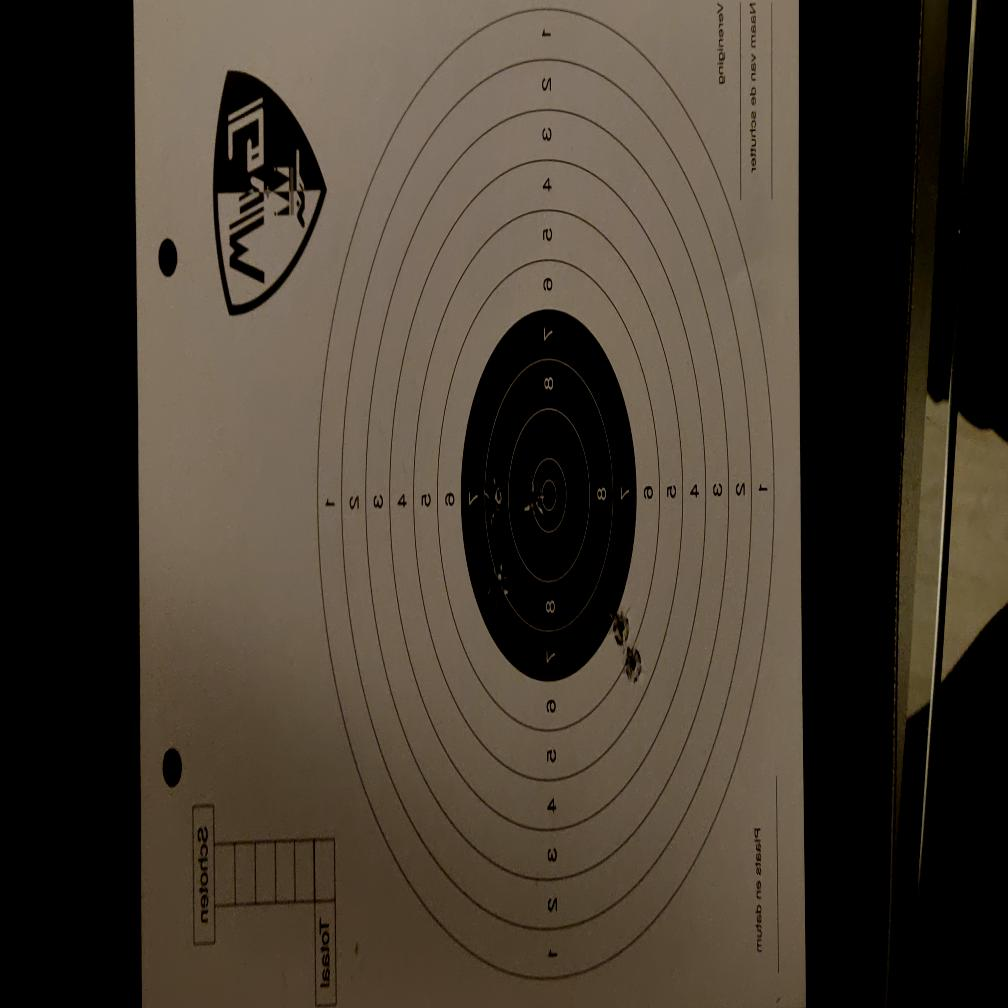10: (520, 471, 546, 524)
6: (623, 645, 643, 686)
7: (608, 605, 631, 649)
8: (485, 560, 508, 612), (483, 478, 504, 529)
Target: (315, 6, 777, 985)
black_contour: (460, 309, 637, 682)
